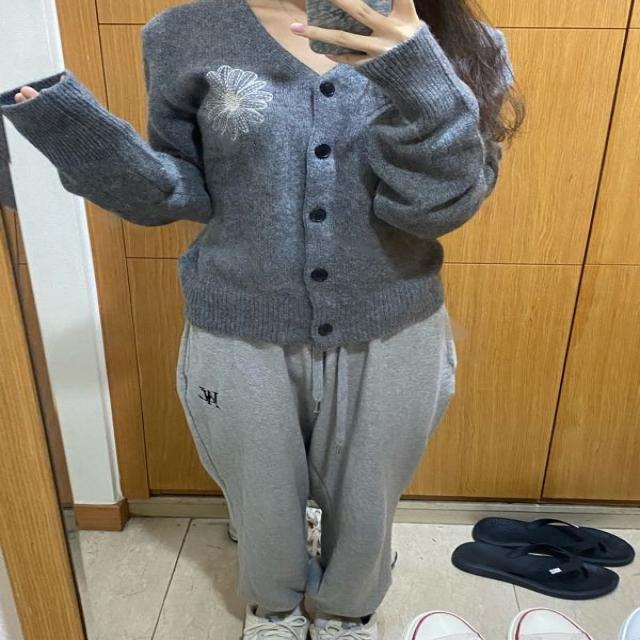cardigan: (4, 0, 496, 355)
trainingpants: (173, 288, 450, 615)
